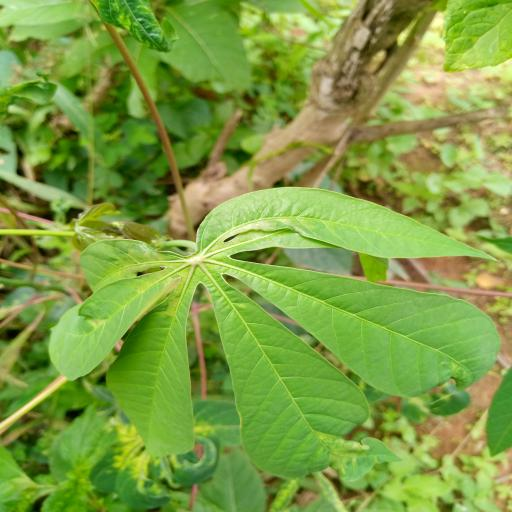Cassava_Mosaic: (40, 186, 508, 478)
